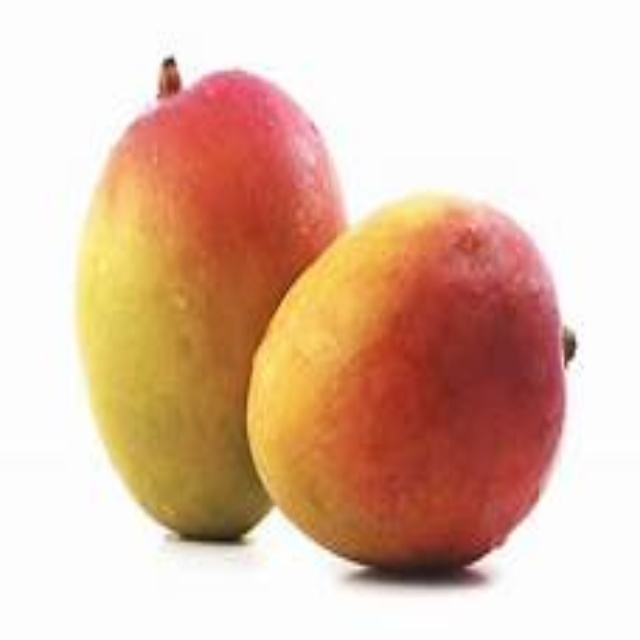mango: (249, 192, 573, 572), (80, 70, 331, 539)
